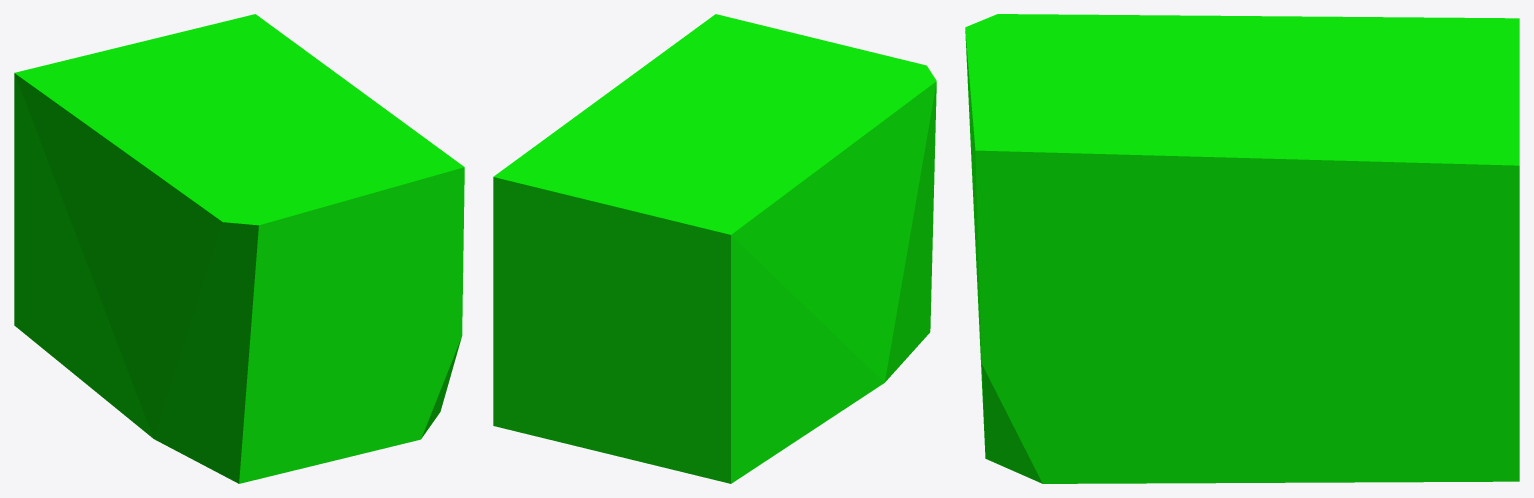
Rendered from SM_Beam_Horizontal_A_End_A.fbx.
3 renders of one model, left to right at view 1: azimuth 30°, elevation 25°; view 2: azimuth 150°, elevation 25°; view 3: azimuth 270°, elevation 25°, orthographic. The views are drawn at different scales.
Visible parts, largest first — view 1: beam-horizontal-a-end-a; view 2: beam-horizontal-a-end-a; view 3: beam-horizontal-a-end-a.
Boxes of the visible parts, x1,y1,x2,y2 form: beam-horizontal-a-end-a: [14, 14, 464, 483]; beam-horizontal-a-end-a: [493, 14, 936, 483]; beam-horizontal-a-end-a: [965, 14, 1519, 483].
Bounding box in the file's own units: 0.2584 × 0.263 × 0.3976.
